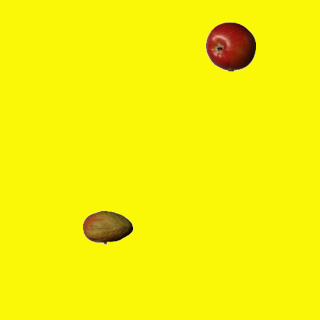Apple Braeburn: (205, 21, 255, 71)
Papaya: (82, 202, 132, 252)
